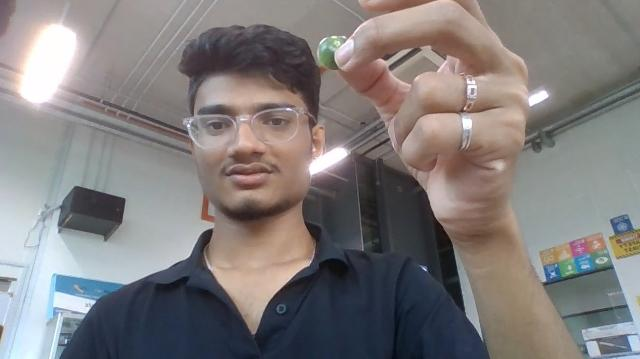Fruit Maturation: (316, 35, 347, 71)
